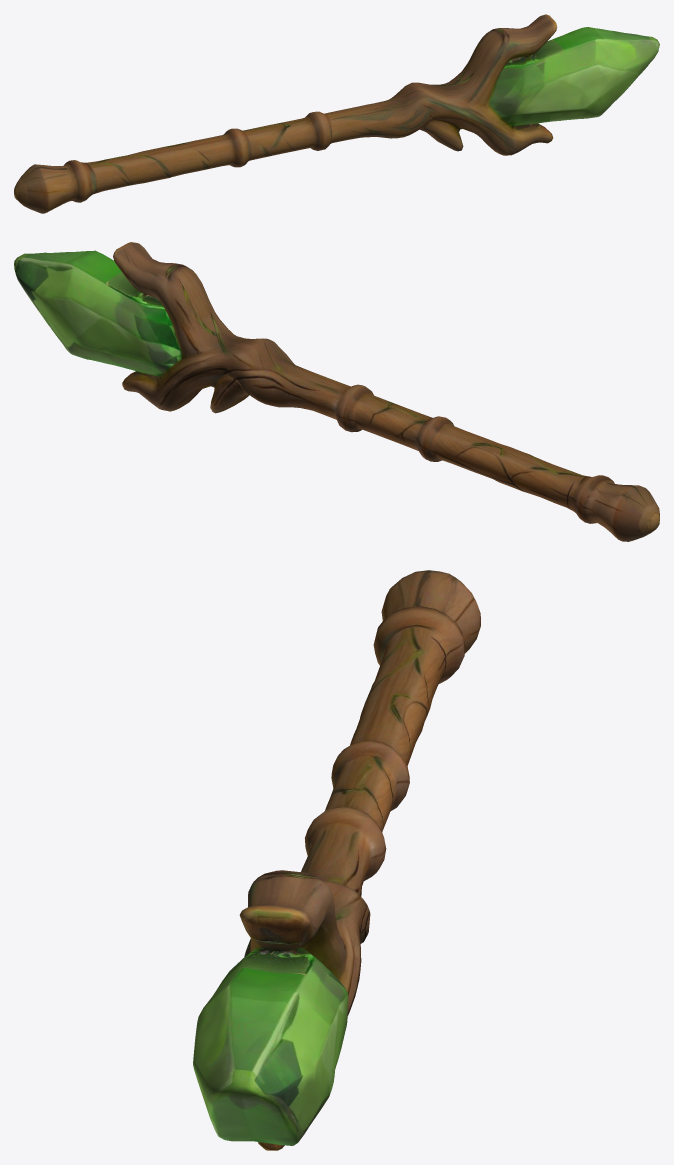
Rendered from RenewalStaff.glb.
The picture shows the model from 3 angles, top to bottom: view 1: azimuth 30°, elevation 25°; view 2: azimuth 150°, elevation 25°; view 3: azimuth 270°, elevation 25°; orthographic projection. The views are drawn at different scales.
Visible parts, largest first — view 1: Mesh_0.005; view 2: Mesh_0.005; view 3: Mesh_0.005.
Boxes of the visible parts, x1,y1,x2,y2 form: Mesh_0.005: (14,14,659,213); Mesh_0.005: (14,242,659,541); Mesh_0.005: (193,570,480,1150).
Bounding box in the file's own units: 1.14 × 0.2333 × 0.2391.
1 material, 1 textured.
